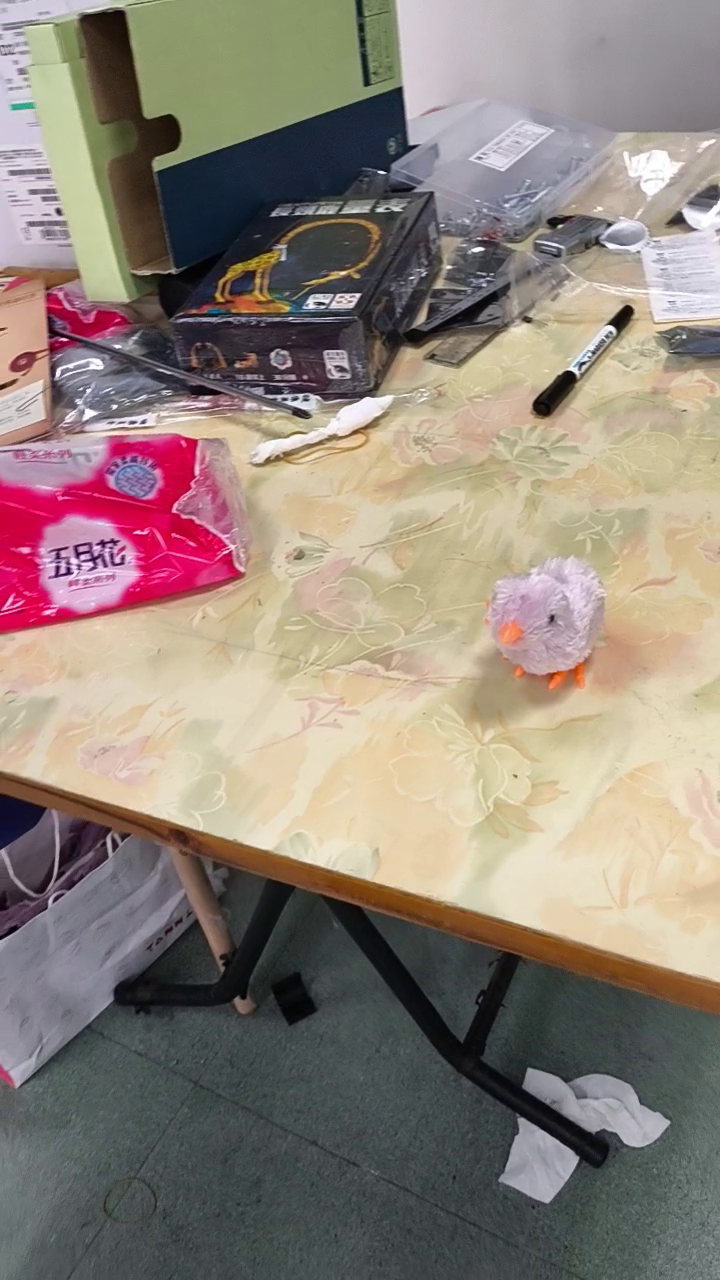pink chicken: (485, 551, 612, 696)
